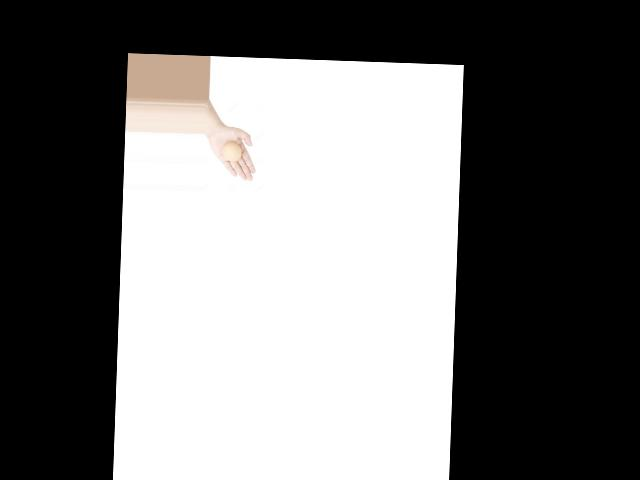egg: (221, 140, 241, 161)
